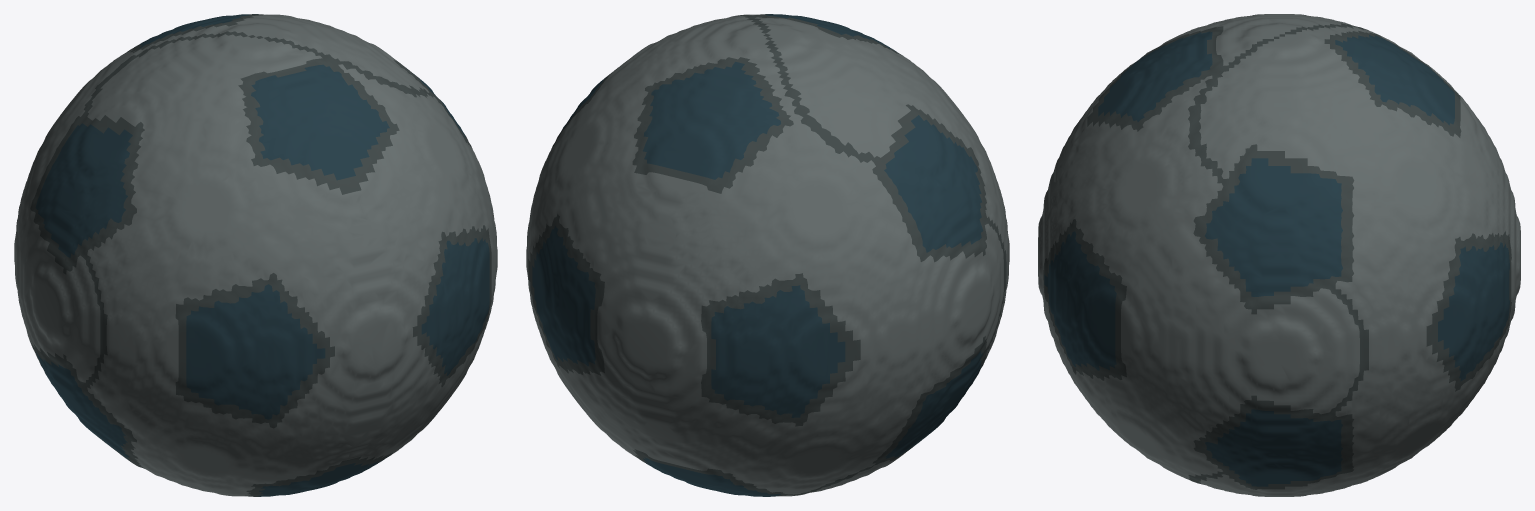
File: ball.glb
3 views of the same model, side by side, from view 1: azimuth 30°, elevation 25°; view 2: azimuth 150°, elevation 25°; view 3: azimuth 270°, elevation 25° (orthographic).
Parts seen in each view (by area): view 1: __playground; view 2: __playground; view 3: __playground.
Boxes of the visible parts, x1,y1,x2,y2 form: __playground: (14,14,497,496); __playground: (526,14,1009,496); __playground: (1038,14,1520,496).
Bounding box in the file's own units: 2.15 × 2.15 × 2.15.
